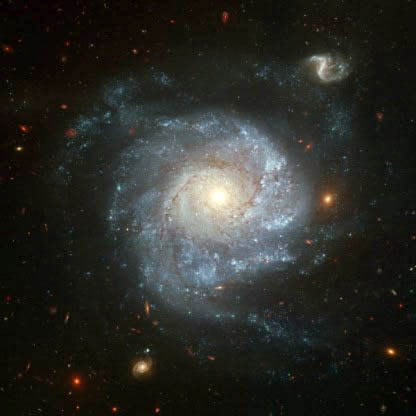NGC 1309: (62, 41, 363, 386)
